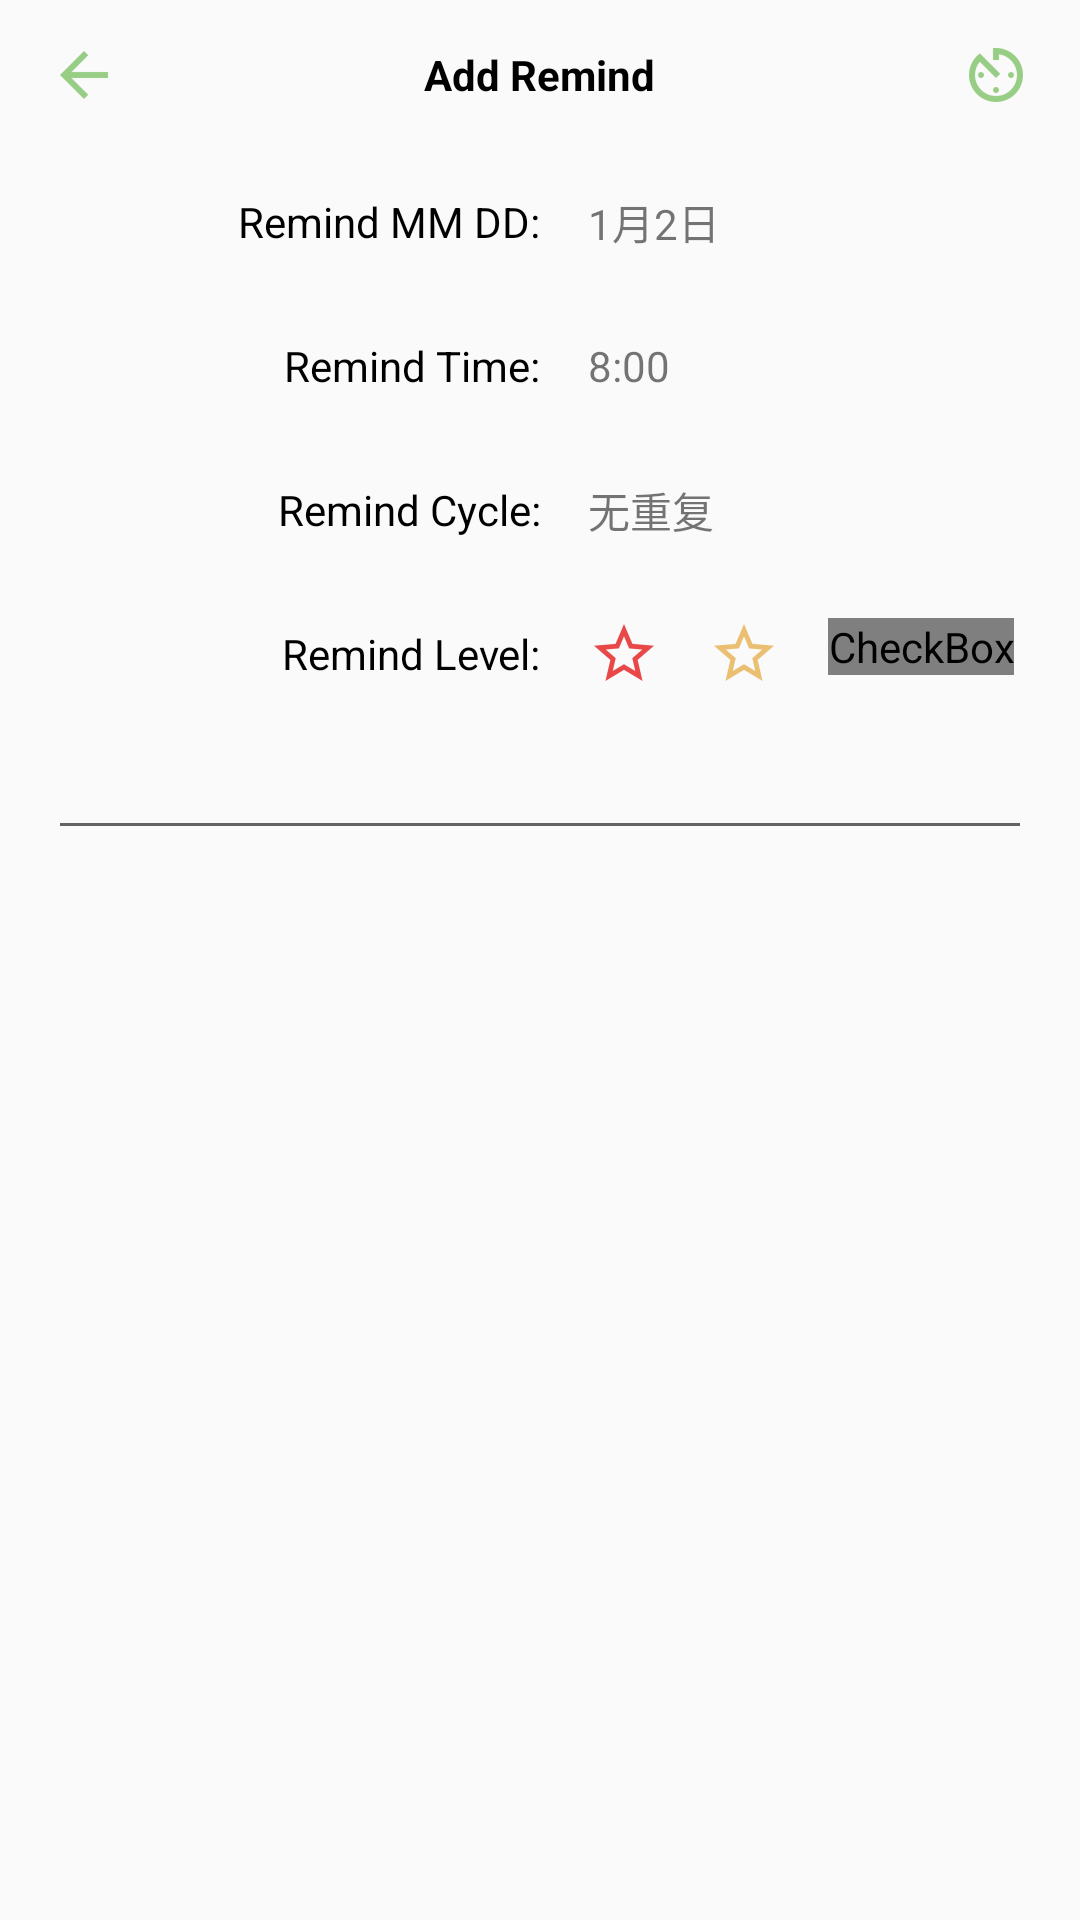

Screen size 1080px x 1920px. Icon name, then its center in pixels as (x,y):
add level important: (624,652)
add level middle: (744,652)
left: (84,75)
radio today: (996,75)
